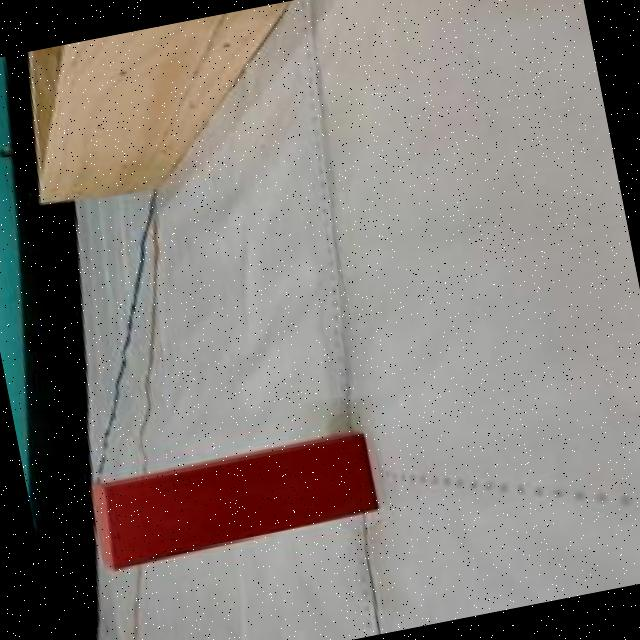redbox: (80, 429, 379, 576)
